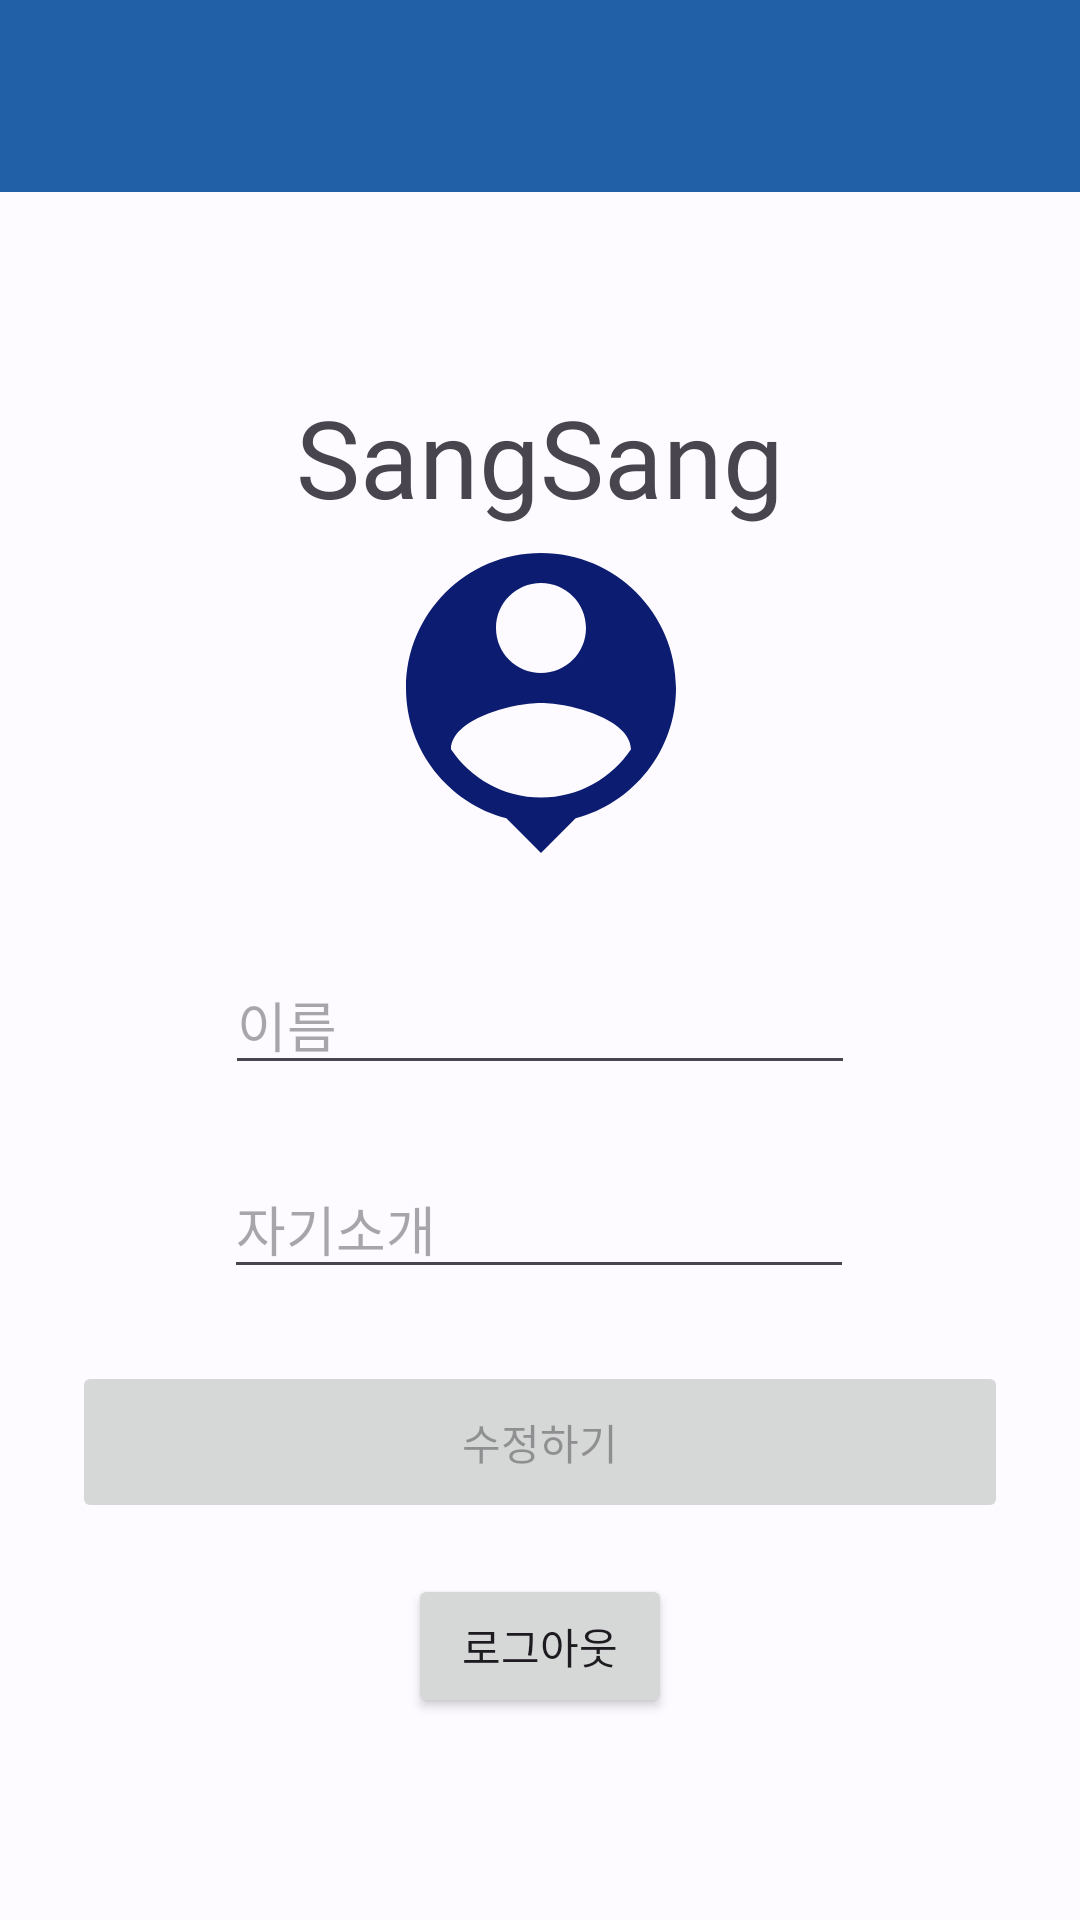

Point at icon controls on the screen. Image size 1080*1920, points as [x,y].
person pin: [541,703]
